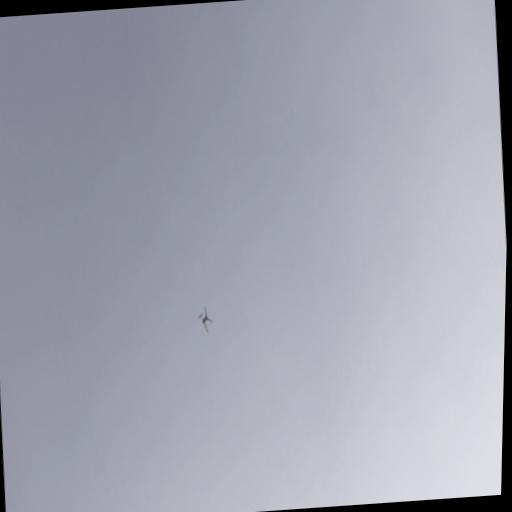drones: (197, 304, 215, 334)
